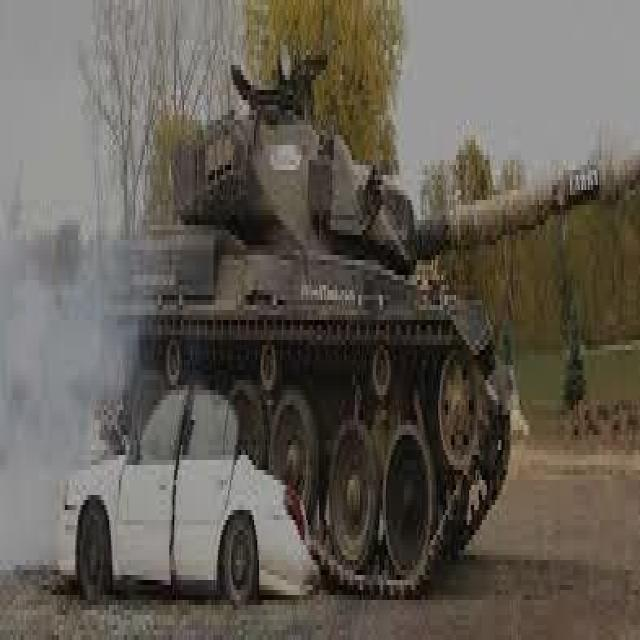Tanks: (68, 18, 565, 598)
